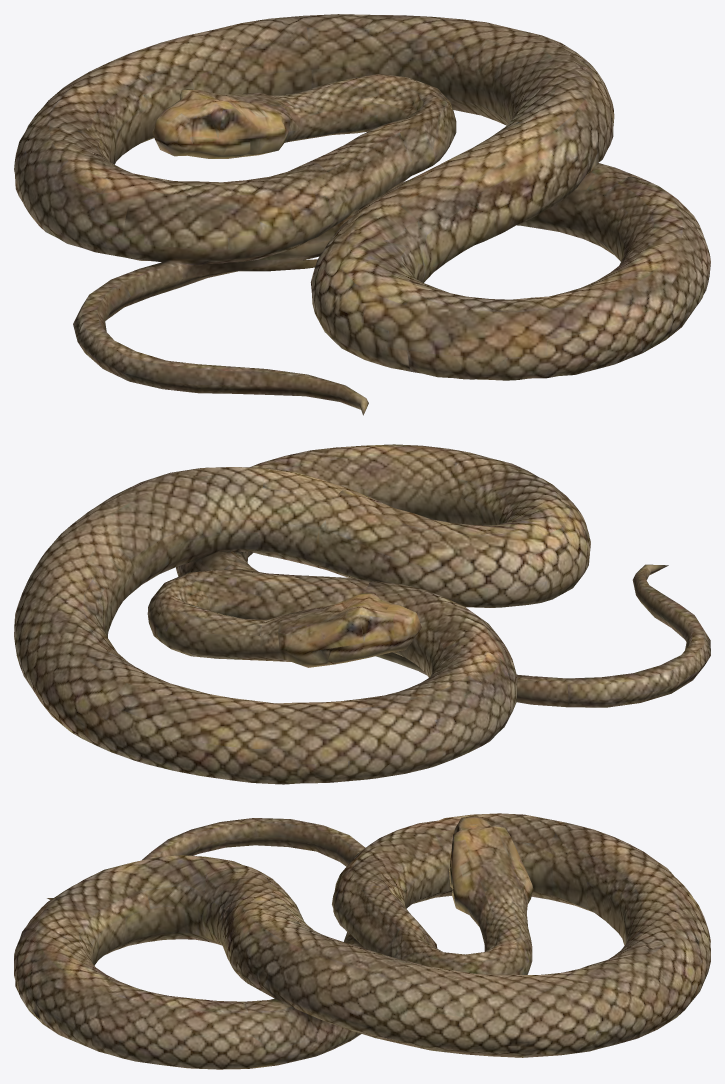
The model's file is serpente.glb.
3 views of the same model, one above another, from view 1: azimuth 30°, elevation 25°; view 2: azimuth 150°, elevation 25°; view 3: azimuth 270°, elevation 25° (orthographic). The views are drawn at different scales.
Visible parts, largest first — view 1: tripo_node_b9705721-9ead-4a13-8ea6-9866e20cfaa5; view 2: tripo_node_b9705721-9ead-4a13-8ea6-9866e20cfaa5; view 3: tripo_node_b9705721-9ead-4a13-8ea6-9866e20cfaa5.
Boxes of the visible parts, left/top/right/bottom form: tripo_node_b9705721-9ead-4a13-8ea6-9866e20cfaa5: left=14, top=14, right=710, bottom=415; tripo_node_b9705721-9ead-4a13-8ea6-9866e20cfaa5: left=14, top=444, right=710, bottom=784; tripo_node_b9705721-9ead-4a13-8ea6-9866e20cfaa5: left=14, top=813, right=710, bottom=1069.
Bounding box in the file's own units: 0.8517 × 0.1818 × 0.978.
Materials: 1 (1 with a texture image).
